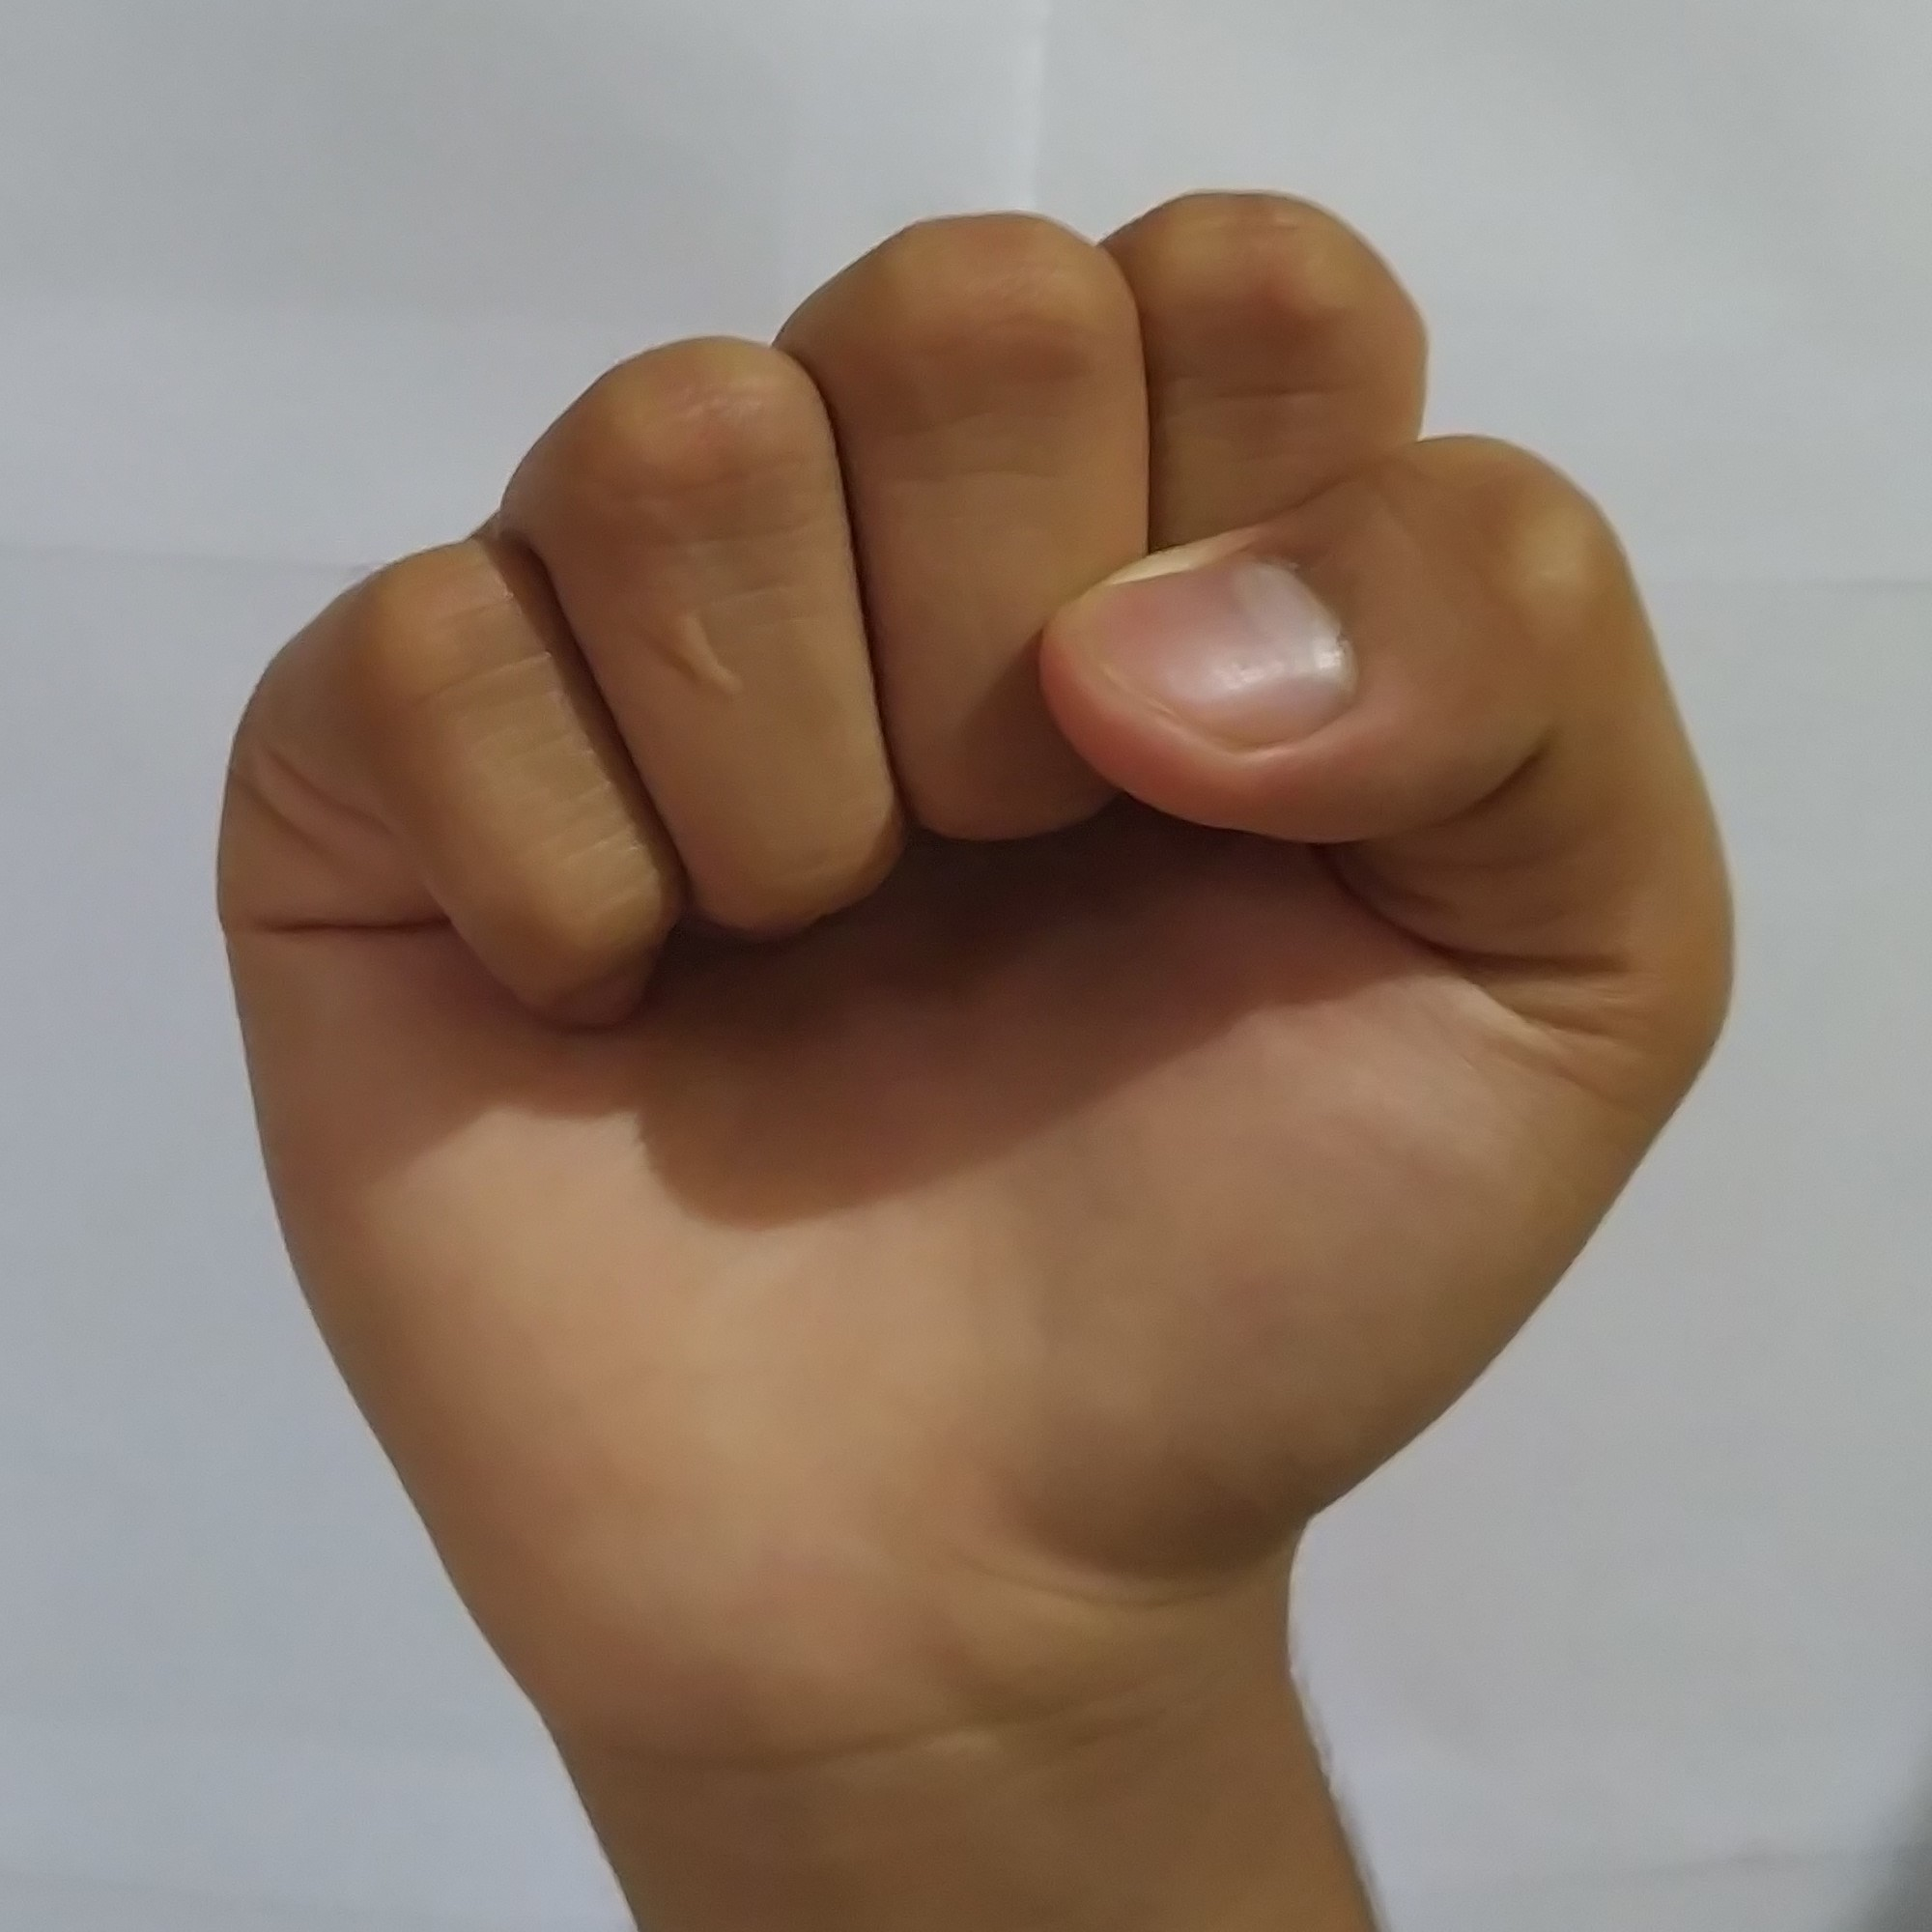S: (170, 157, 1771, 1709)
